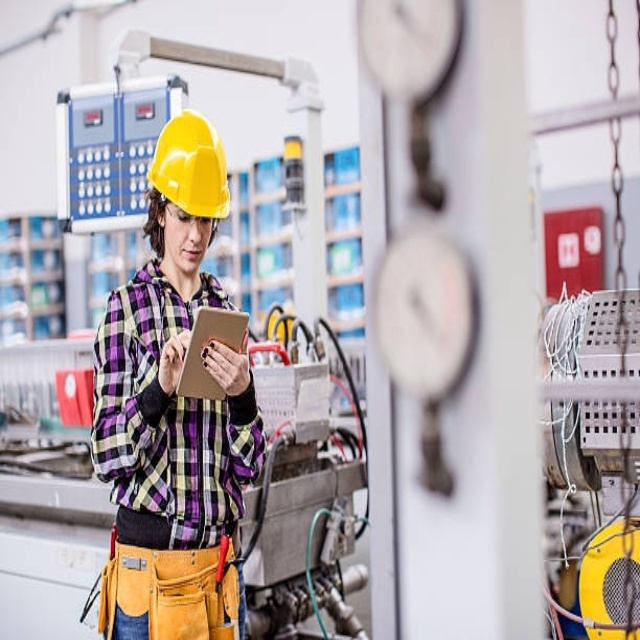Gafas: (164, 199, 221, 234)
Sin_guantes: (197, 328, 251, 398), (158, 327, 195, 397)
Sin_mascara: (177, 243, 205, 270)
